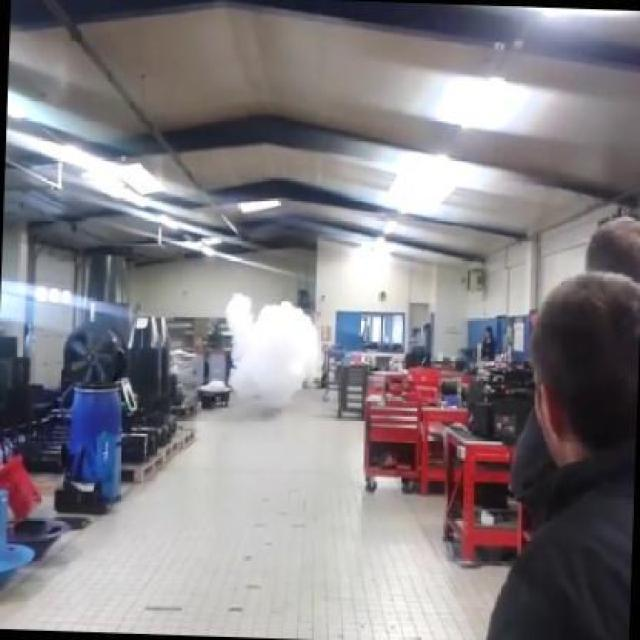fire: (216, 290, 332, 412)
